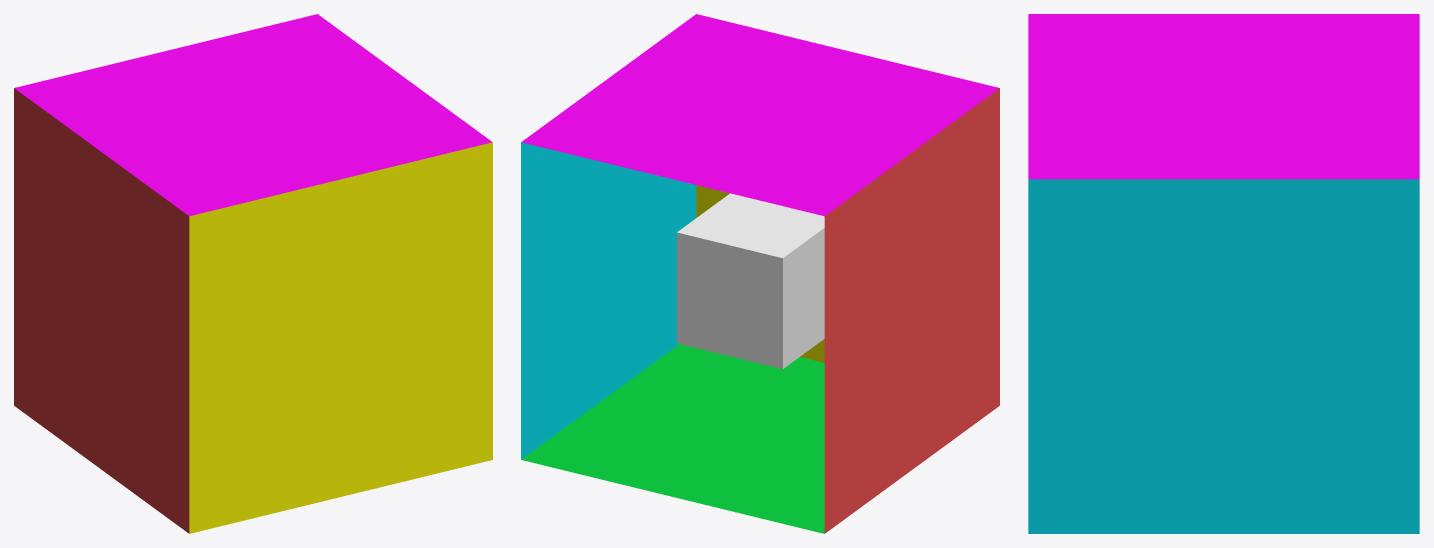
Rendered from TestCubeCave3.gltf.
3 renders of one model, left to right at view 1: azimuth 30°, elevation 25°; view 2: azimuth 150°, elevation 25°; view 3: azimuth 270°, elevation 25°, orthographic. The views are drawn at different scales.
Parts seen in each view (by area): view 1: Plane (4), Plane (2), Plane; view 2: Plane (2), Plane, Plane (3), Plane (1), Cube, Plane (4); view 3: Plane (3), Plane.
Boxes of the visible parts, x1,y1,x2,y2 form: Plane (4): (189, 142, 492, 533); Plane (2): (14, 88, 189, 533); Plane: (14, 14, 492, 216); Plane (2): (824, 88, 999, 533); Plane: (521, 14, 999, 216); Plane (3): (521, 142, 696, 459); Plane (1): (521, 344, 824, 533); Cube: (677, 193, 824, 369); Plane (4): (696, 185, 824, 362); Plane (3): (1028, 179, 1419, 533); Plane: (1028, 14, 1419, 179).
Bounding box in the file's own units: 10 × 10 × 10.
